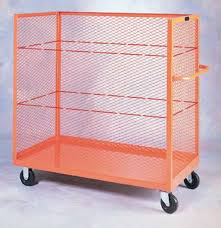Carts: (13, 10, 209, 213)
